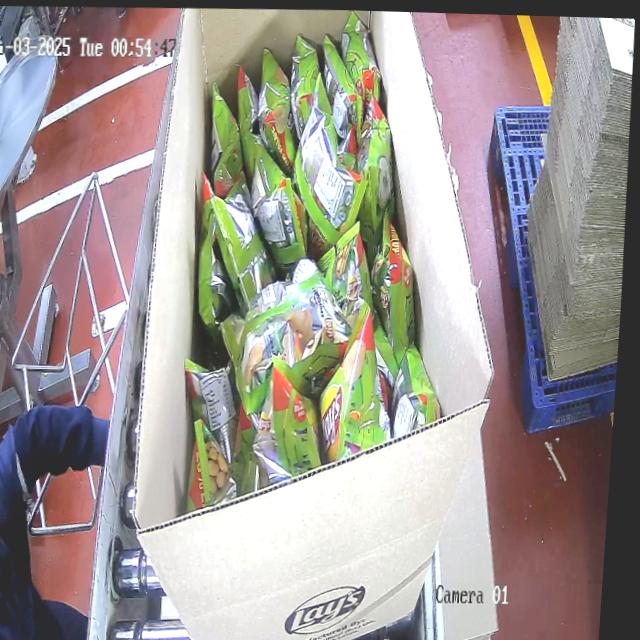YOGURT_HERB: (175, 6, 467, 504)
